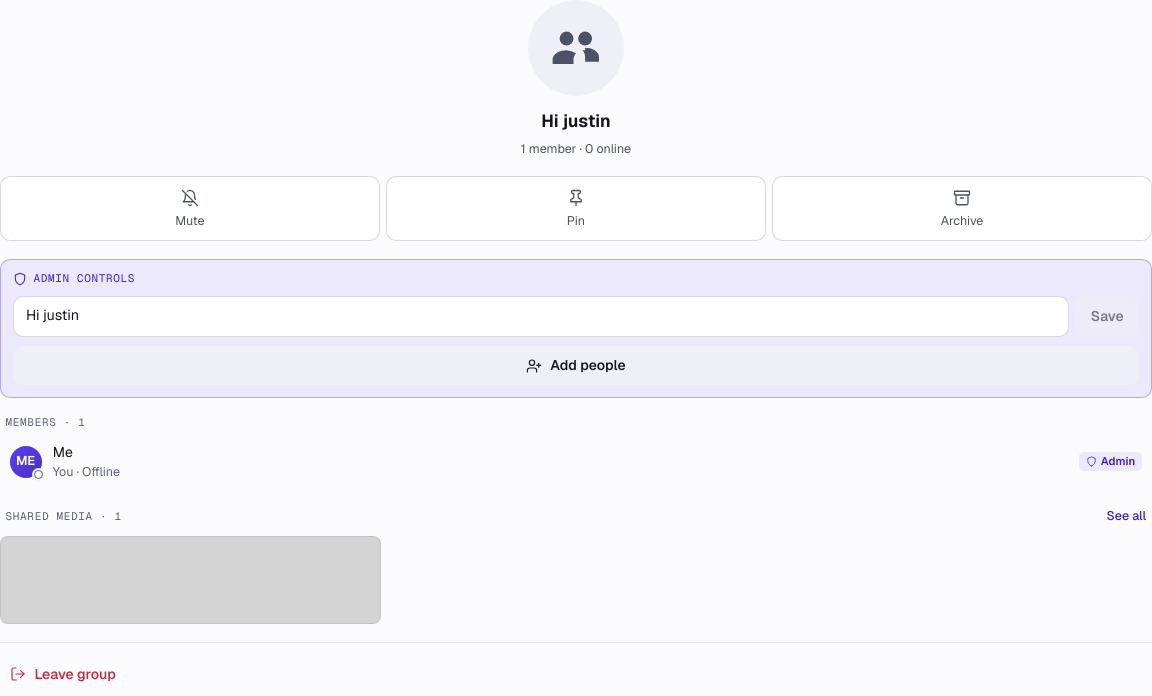
Test case: GroupInfoPanel — leaving › warns the last member that there is no way back in
Click the button "Leave group" at (75, 674), box [0,655,1151,693]
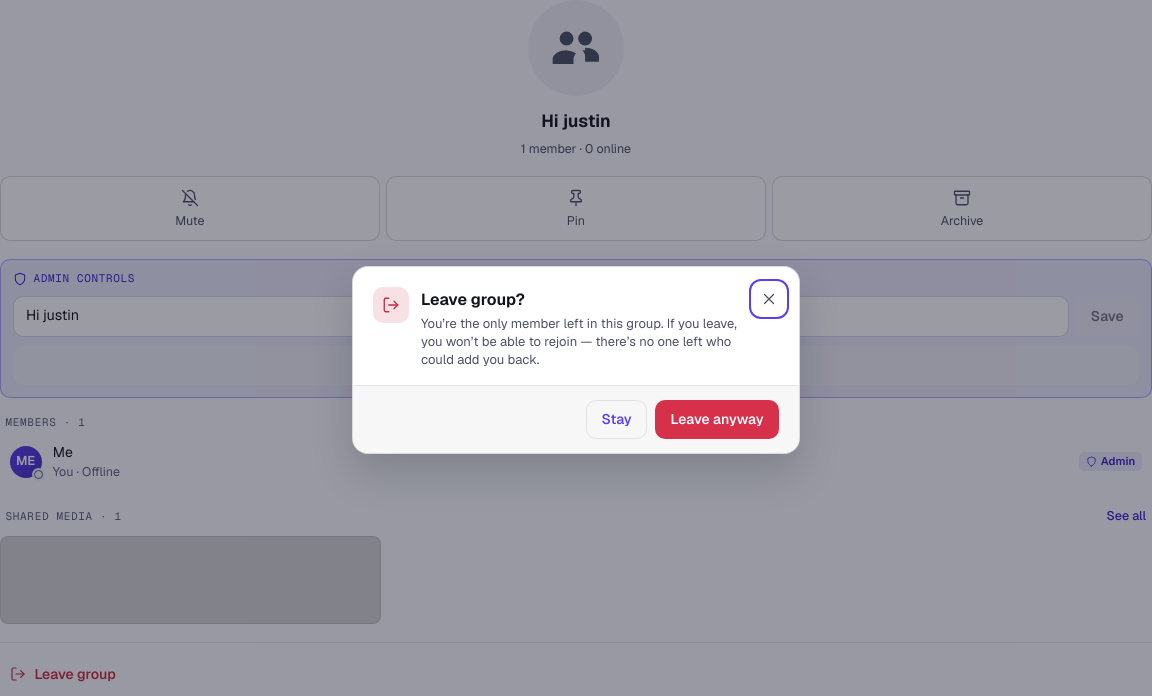
Now the dialog "Leave group?" shows "You’re the only member left", box [421,315,737,368]
Now the button "Leave anyway" is shown, box [655,400,779,439]
